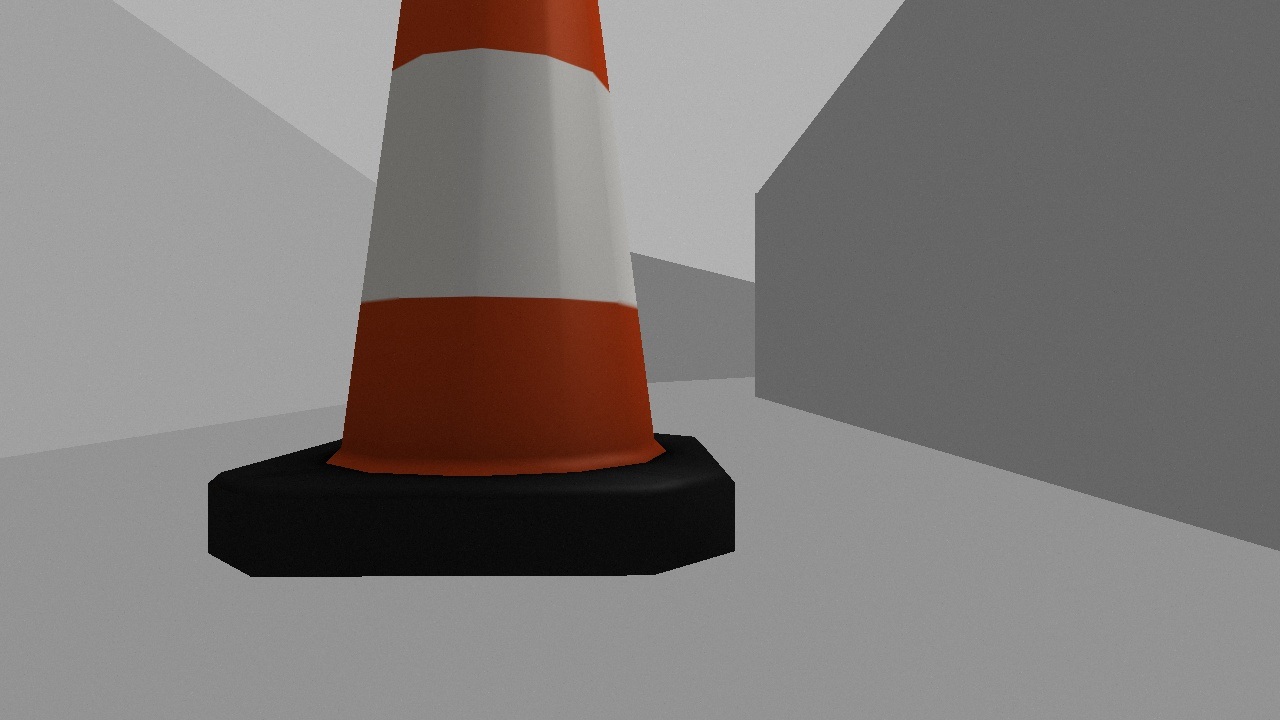barricade: (177, 1, 783, 606)
